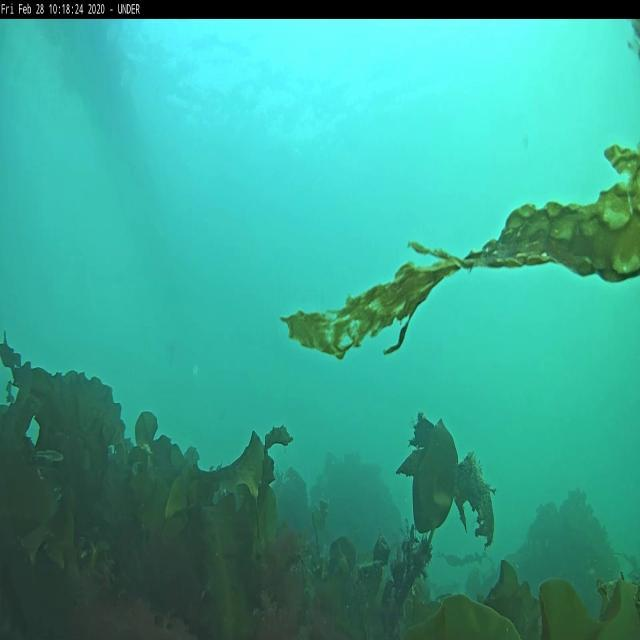fish: (38, 447, 66, 466)
